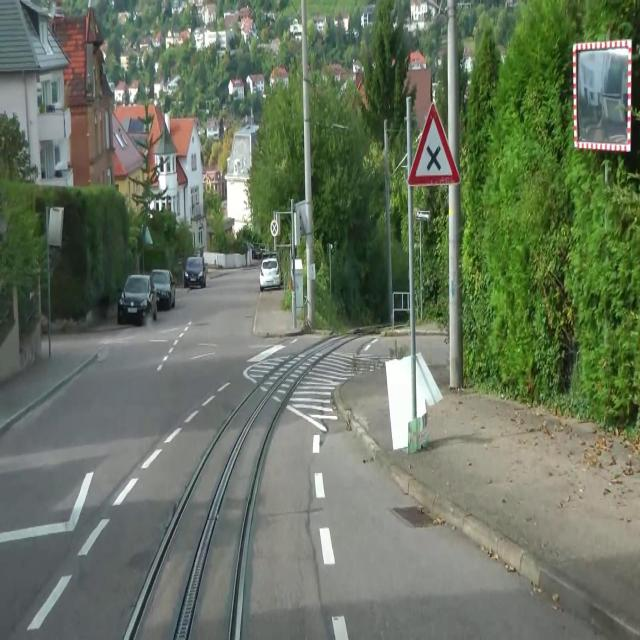rail-track: (129, 335, 352, 639)
